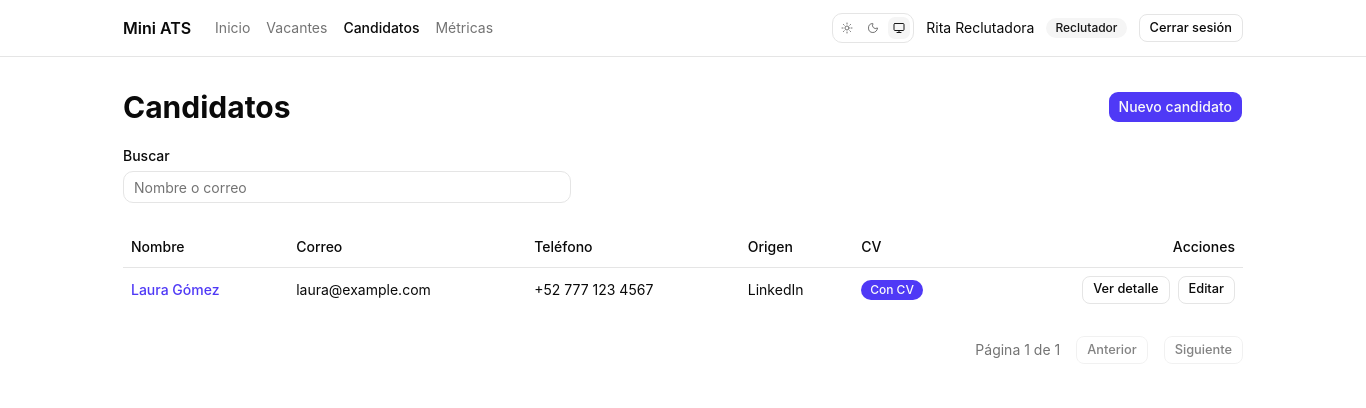
Test: CandidatesPage › navigates with the Editar a Laura Gómez action
The width and height of the screenshot is (1366, 408).
Click the link with aria-label "Editar a Laura Gómez" at (1206, 290), box [1178,276,1235,304]
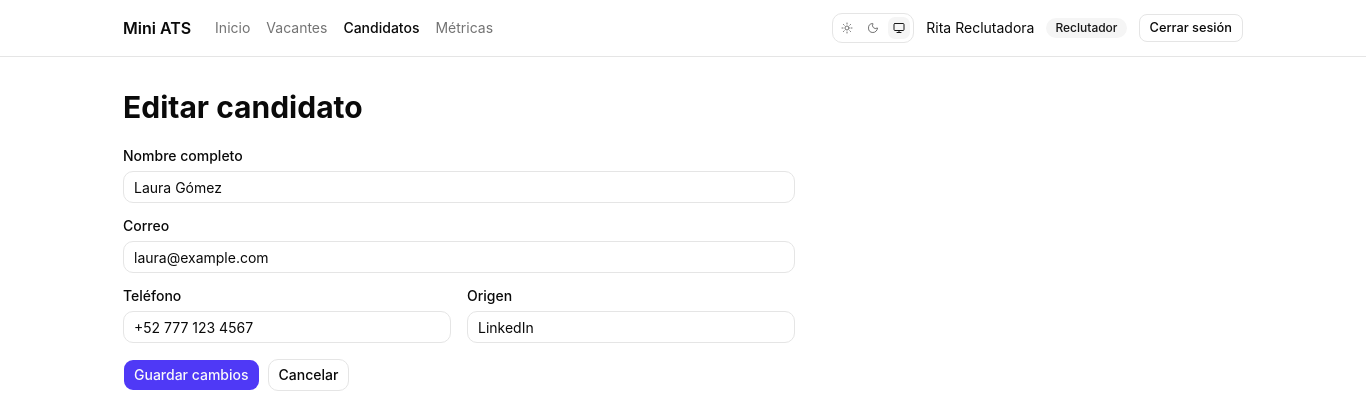
Expected: the heading "Editar candidato" is shown, [123,89,363,125]
